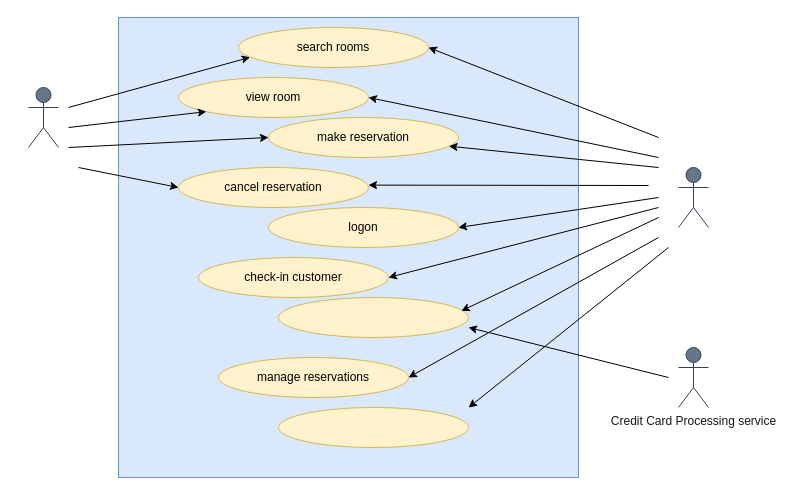
Image size: 793x495. Some labels were removed from this diagram. The box of each missing label's shape, as (x1, y1, x2, y2) in pixels:
check-out customer: (278, 296, 468, 338)
Customer: (28, 86, 58, 148)
manage rooms: (278, 406, 468, 448)
Receptionist: (678, 166, 708, 228)
